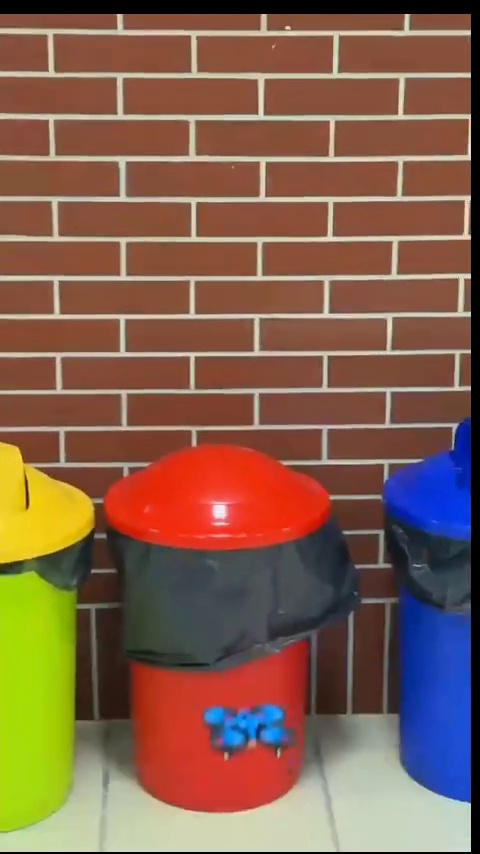drone: (199, 700, 293, 767)
